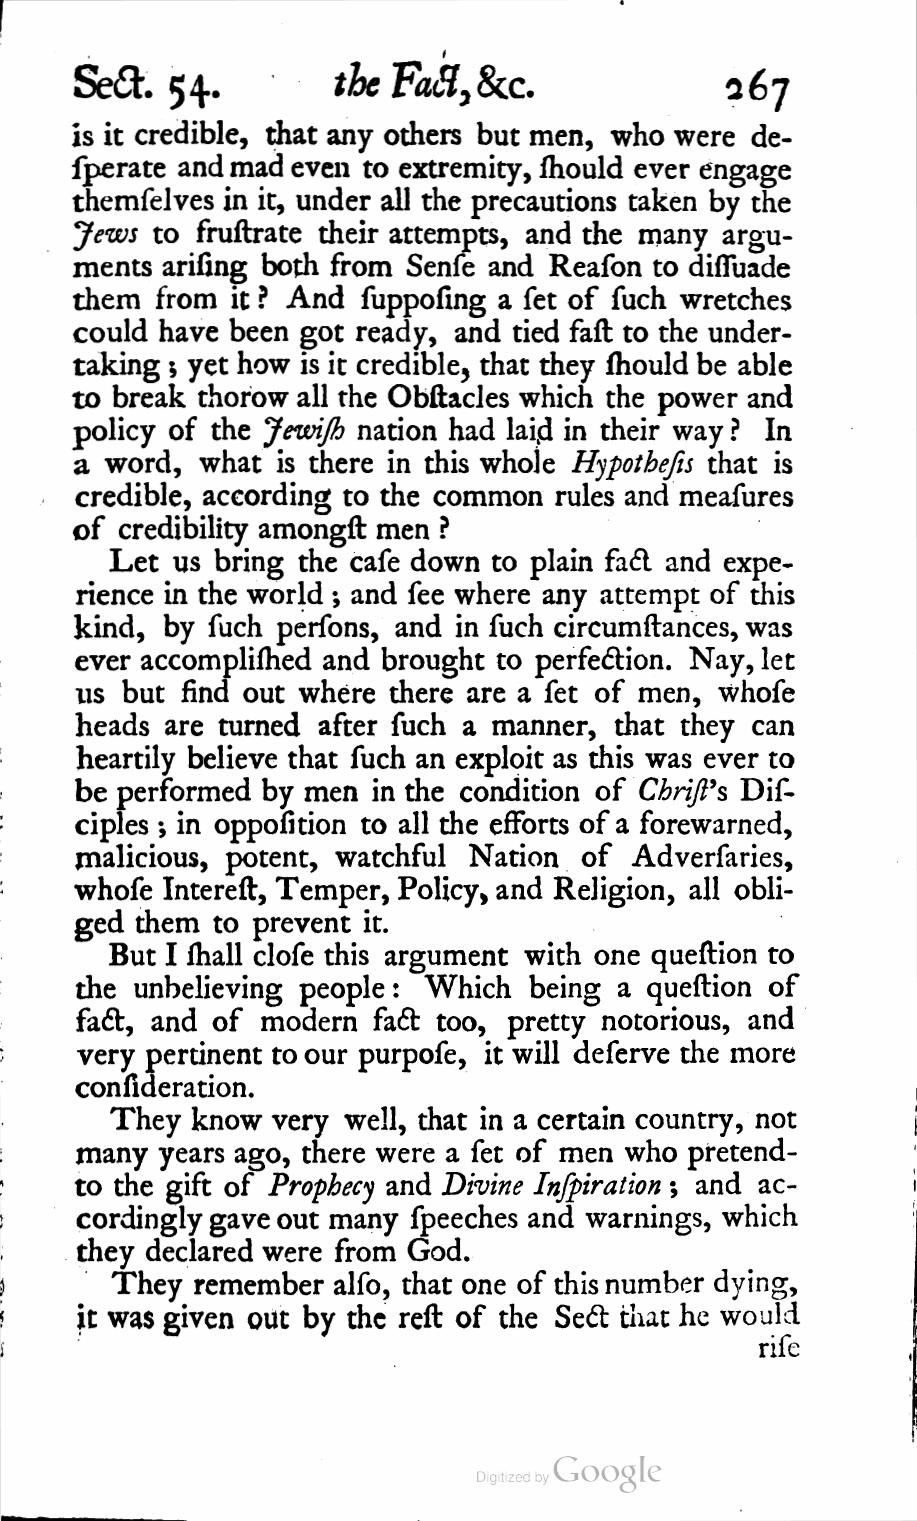bottom_p: (70, 116, 796, 546)
catchword: (754, 1332, 802, 1360)
full_p: (71, 545, 799, 941), (72, 1104, 802, 1269), (72, 940, 802, 1102)
header: (68, 58, 538, 112)
page_num: (723, 64, 793, 114)
top_p: (74, 1269, 803, 1337)
